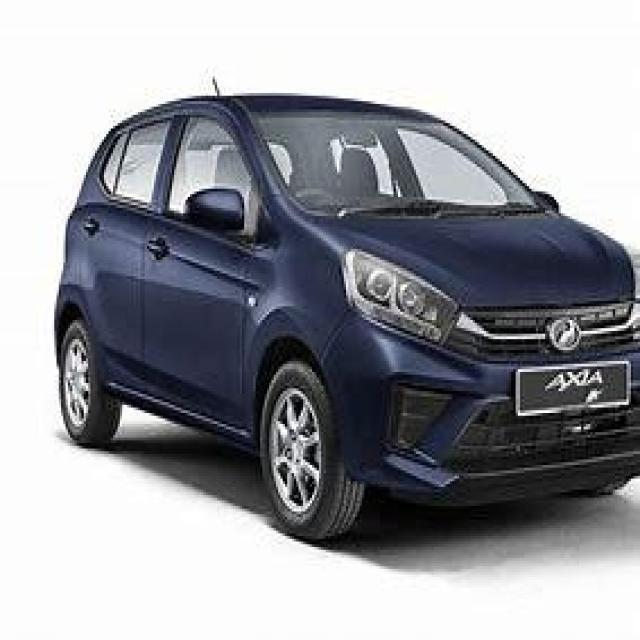PeroduaAxia: (52, 80, 638, 542)
